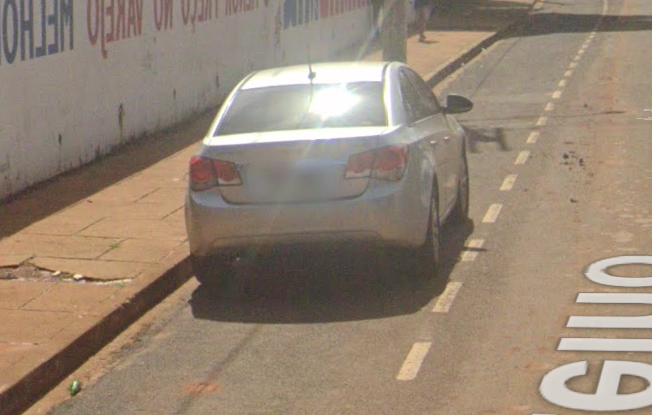car: (179, 41, 482, 283)
